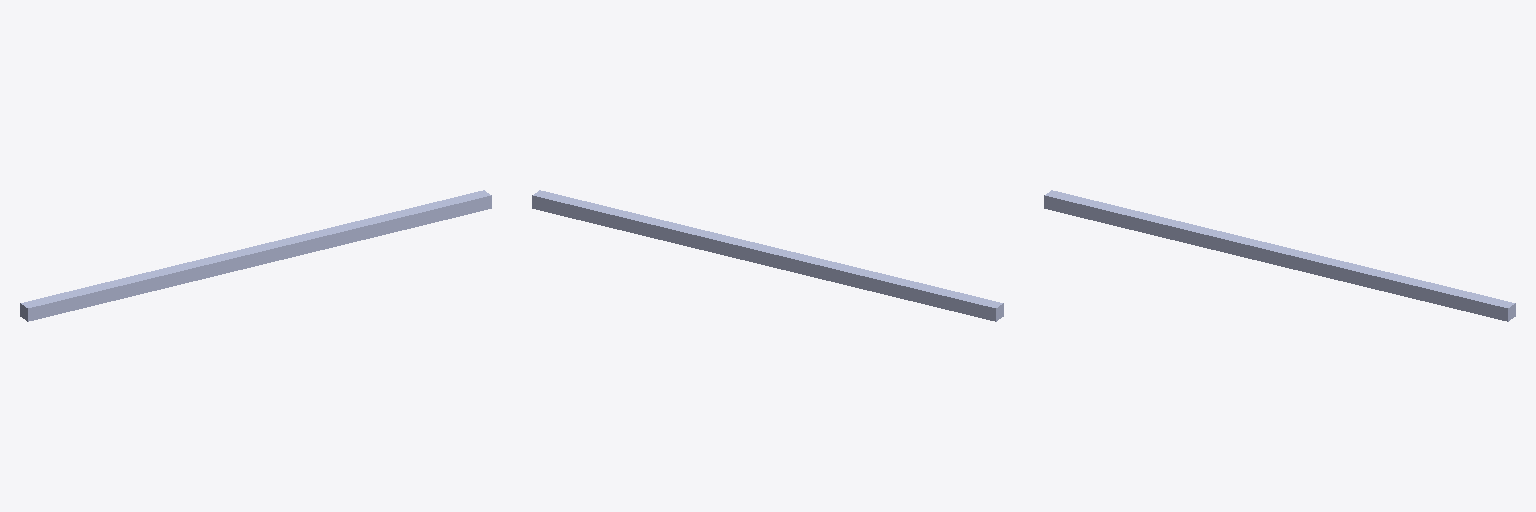
robot.urdf — gate_black:
<robot
  name="gate_black">
  <link
    name="gate_black">
    <inertial>
      <origin
        xyz="0.73 7.34151509116515E-35 1.199E-18"
        rpy="0 0 0" />
      <mass
        value="2.336" />
      <inertia
        ixx="0.000622933333333333"
        ixy="-1.15648231731787E-18"
        ixz="3.50987396139624E-34"
        iyy="0.415262933333333"
        iyz="-2.18936558697235E-20"
        izz="0.415262933333333" />
    </inertial>
    <visual>
      <origin
        xyz="0 0 0"
        rpy="1.5707963267949 0 0" />
      <geometry>
        <mesh
          filename="package://gate_black/meshes/gate_black.STL" />
      </geometry>
      <material
        name="">
        <color
          rgba="0.79216 0.81961 0.93333 1" />
      </material>
    </visual>
    <collision>
      <origin
        xyz="0 0 0"
        rpy="1.5707963267949 0 0" />
      <geometry>
        <mesh
          filename="package://gate_black/meshes/gate_black.STL" />
      </geometry>
    </collision>
  </link>
  <gazebo reference="gate_black">
    <material>Gazebo/Black</material>
  </gazebo>
  <gazebo>
  <static>true</static>
</gazebo>
</robot>

--- Facts derived from the render (not from the file) ---
3 views of the same robot in one strip: view 1: azimuth 30°, elevation 25°; view 2: azimuth 150°, elevation 25°; view 3: azimuth 330°, elevation 25° (orthographic).
Robot: gate_black — 1 links, 0 joints (none); root link gate_black; default pose: all joints at 0.
Links seen in each view (by area): view 1: gate_black; view 2: gate_black; view 3: gate_black.
Link boxes in pixels (x1,y1,x2,y2): gate_black: [20, 190, 491, 321]; gate_black: [532, 190, 1003, 321]; gate_black: [1044, 190, 1515, 321].
Size in the robot's own frame: 1.46 by 0.04 by 0.04 metres.
Meshes: 1 distinct files referenced, 1 mesh visuals loaded (1 binary STL).
